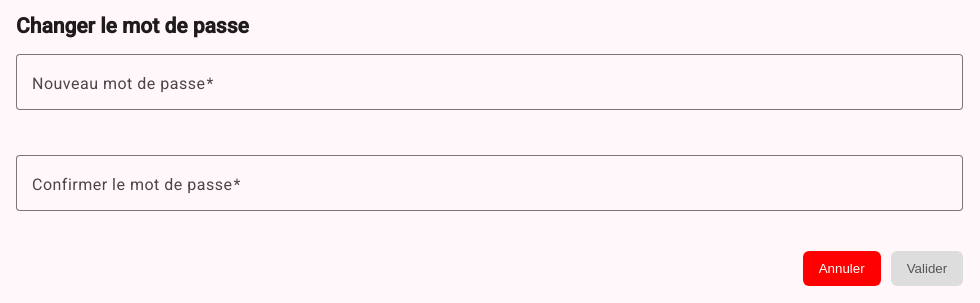
Scenario: ChangePasswordModalComponent › le mot de passe doit être valide
Type "bla" into the password field labelled "Nouveau mot de passe". click: (490, 82)
box: x1=32 y1=70 x2=947 y2=94
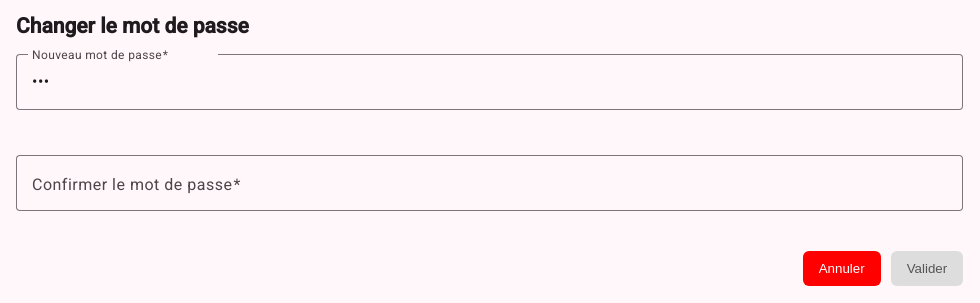
Leave the password field labelled "Nouveau mot de passe", box x1=32 y1=70 x2=947 y2=94
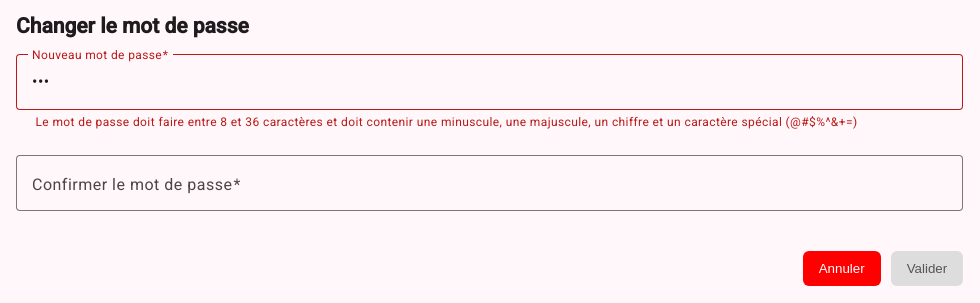
Now the text "Le mot de passe doit faire entre 8 et 36 caractères et doit contenir une minuscule, une majuscule, un chiffre et un cara" is shown, box x1=32 y1=115 x2=858 y2=129
